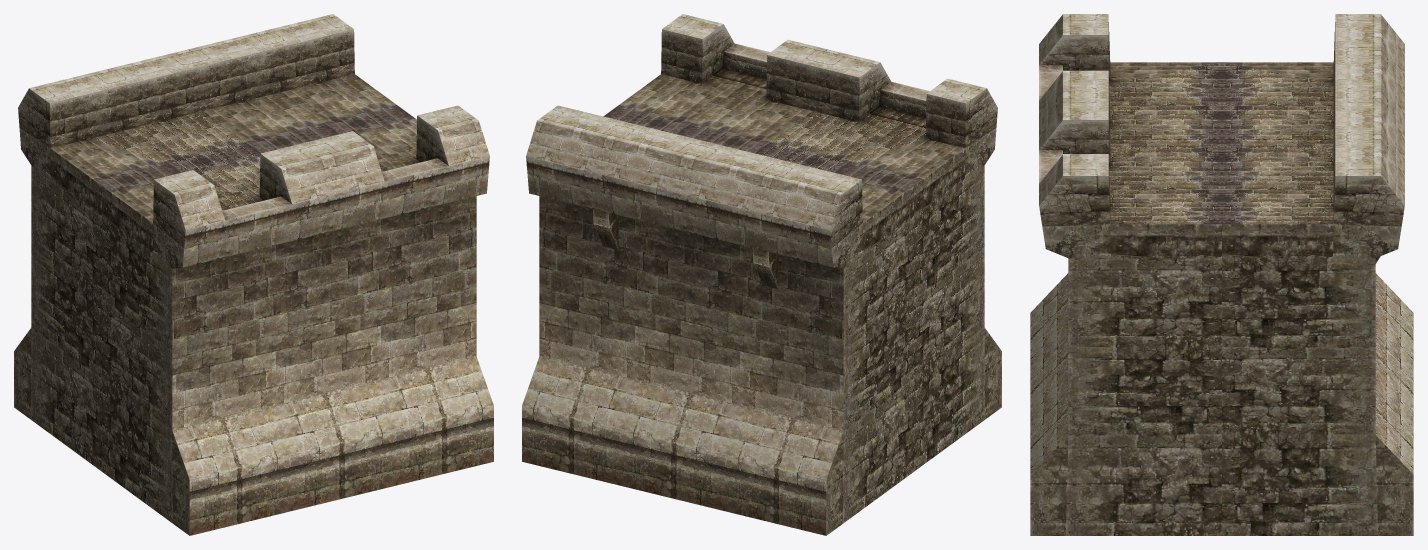
The model's file is OZ_30_mi_gate02B.glb.
The picture shows the model from 3 angles, left to right: view 1: azimuth 30°, elevation 25°; view 2: azimuth 150°, elevation 25°; view 3: azimuth 270°, elevation 25°; orthographic projection. The views are drawn at different scales.
Parts seen in each view (by area): view 1: OM_30_mi_gate02B; view 2: OM_30_mi_gate02B; view 3: OM_30_mi_gate02B.
Part boxes in pixels (box(x1,y1,x2,y2)): OM_30_mi_gate02B: box(14, 14, 493, 535); OM_30_mi_gate02B: box(522, 14, 1001, 535); OM_30_mi_gate02B: box(1030, 14, 1413, 535).
Size of the model in its own units: 10 by 10.37 by 10.
Materials: 2 (2 with a texture image).
